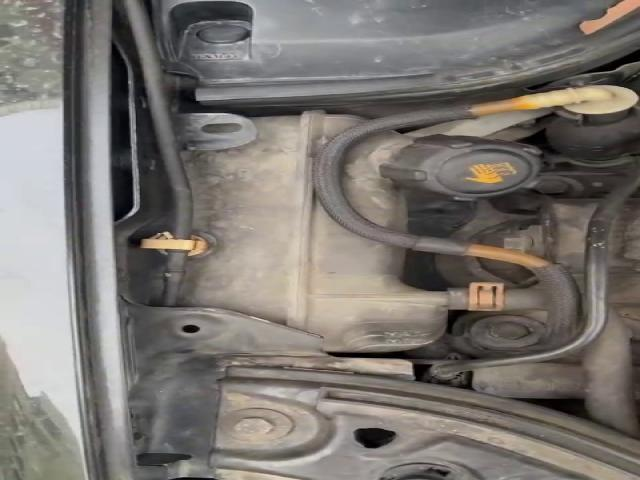antifreeze_tank: (183, 111, 446, 352), (342, 131, 541, 231)
